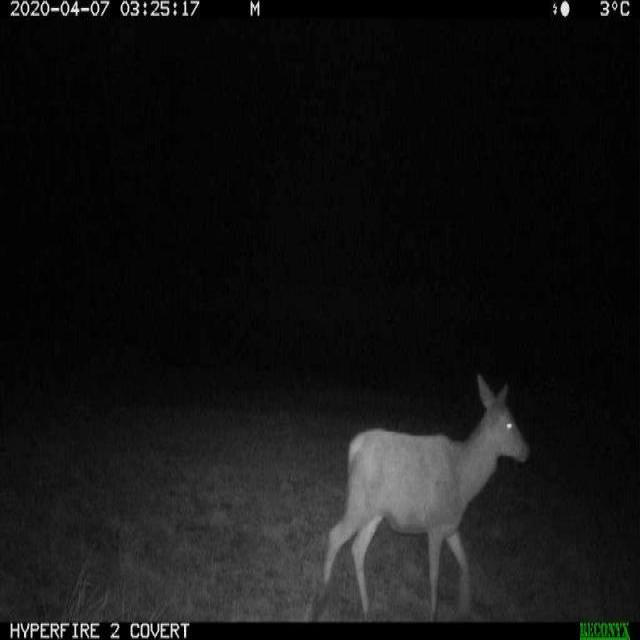deer: (326, 350, 546, 626)
